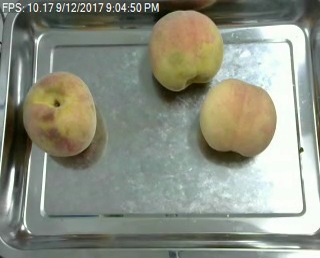Peach: (22, 71, 98, 158), (149, 8, 225, 89), (199, 78, 276, 156)
